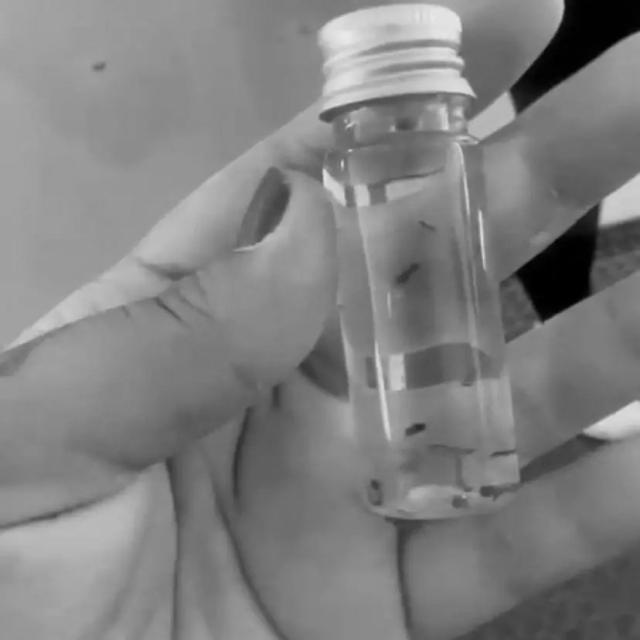larvas: (456, 457, 471, 492), (366, 479, 386, 505), (429, 444, 477, 454), (404, 421, 426, 440), (399, 266, 417, 283), (489, 446, 516, 456), (419, 217, 435, 231)
